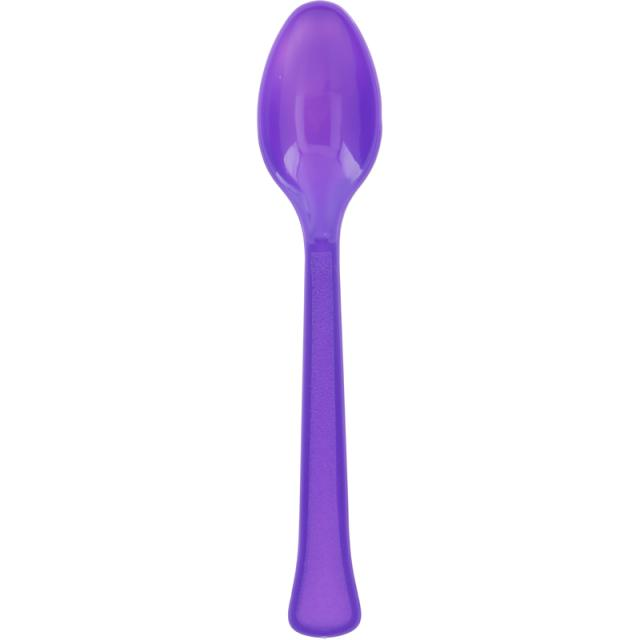spoon: (225, 0, 432, 640)
